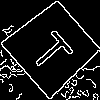T: (26, 23, 82, 76)
